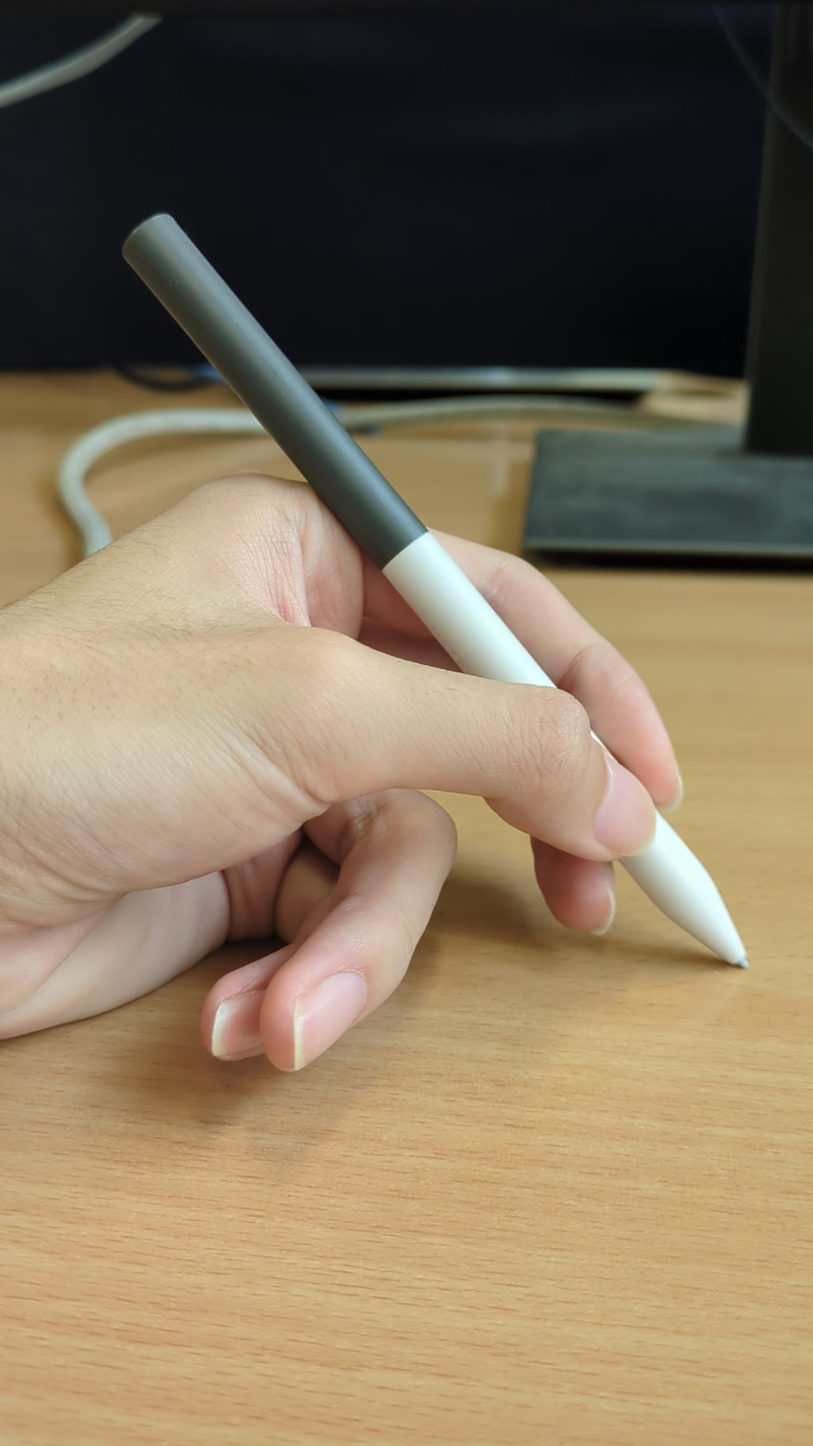pen: (119, 212, 754, 972)
tip: (729, 946, 756, 974)
